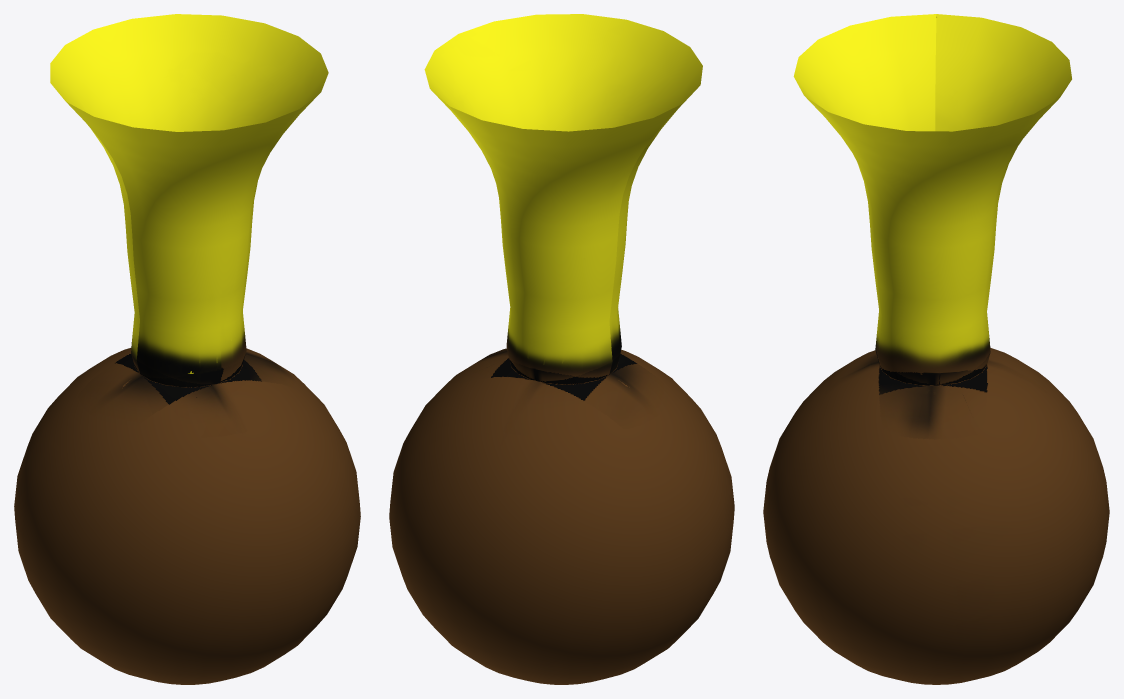
File: honk.dae
The picture shows the model from 3 angles, left to right: view 1: azimuth 30°, elevation 25°; view 2: azimuth 150°, elevation 25°; view 3: azimuth 270°, elevation 25°; orthographic projection.
Parts seen in each view (by area): view 1: BezierCurve; view 2: BezierCurve; view 3: BezierCurve.
Boxes of the visible parts, box(x1,y1,x2,y2) form: BezierCurve: box(14, 14, 360, 684); BezierCurve: box(389, 14, 734, 684); BezierCurve: box(763, 14, 1109, 684).
Size of the model in its own units: 12.02 by 12.02 by 22.79.
Materials: 1 (1 with a texture image).
